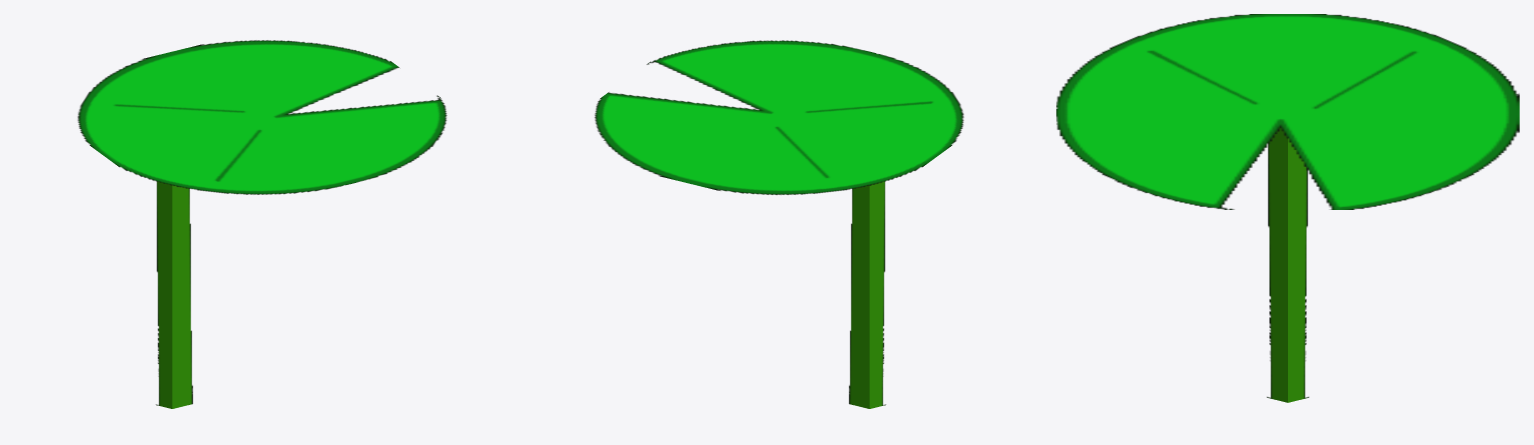
Rendered from Lily.glb.
3 renders of one model, left to right at view 1: azimuth 30°, elevation 25°; view 2: azimuth 150°, elevation 25°; view 3: azimuth 270°, elevation 25°, orthographic. The views are drawn at different scales.
Visible parts, largest first — view 1: Lily; view 2: Lily; view 3: Lily.
Boxes of the visible parts, bbox=[...] form: Lily: bbox=[77, 40, 447, 408]; Lily: bbox=[594, 40, 963, 408]; Lily: bbox=[1056, 14, 1519, 402].
Bounding box in the file's own units: 1.51 × 1.25 × 1.51.
1 material, 1 textured.
